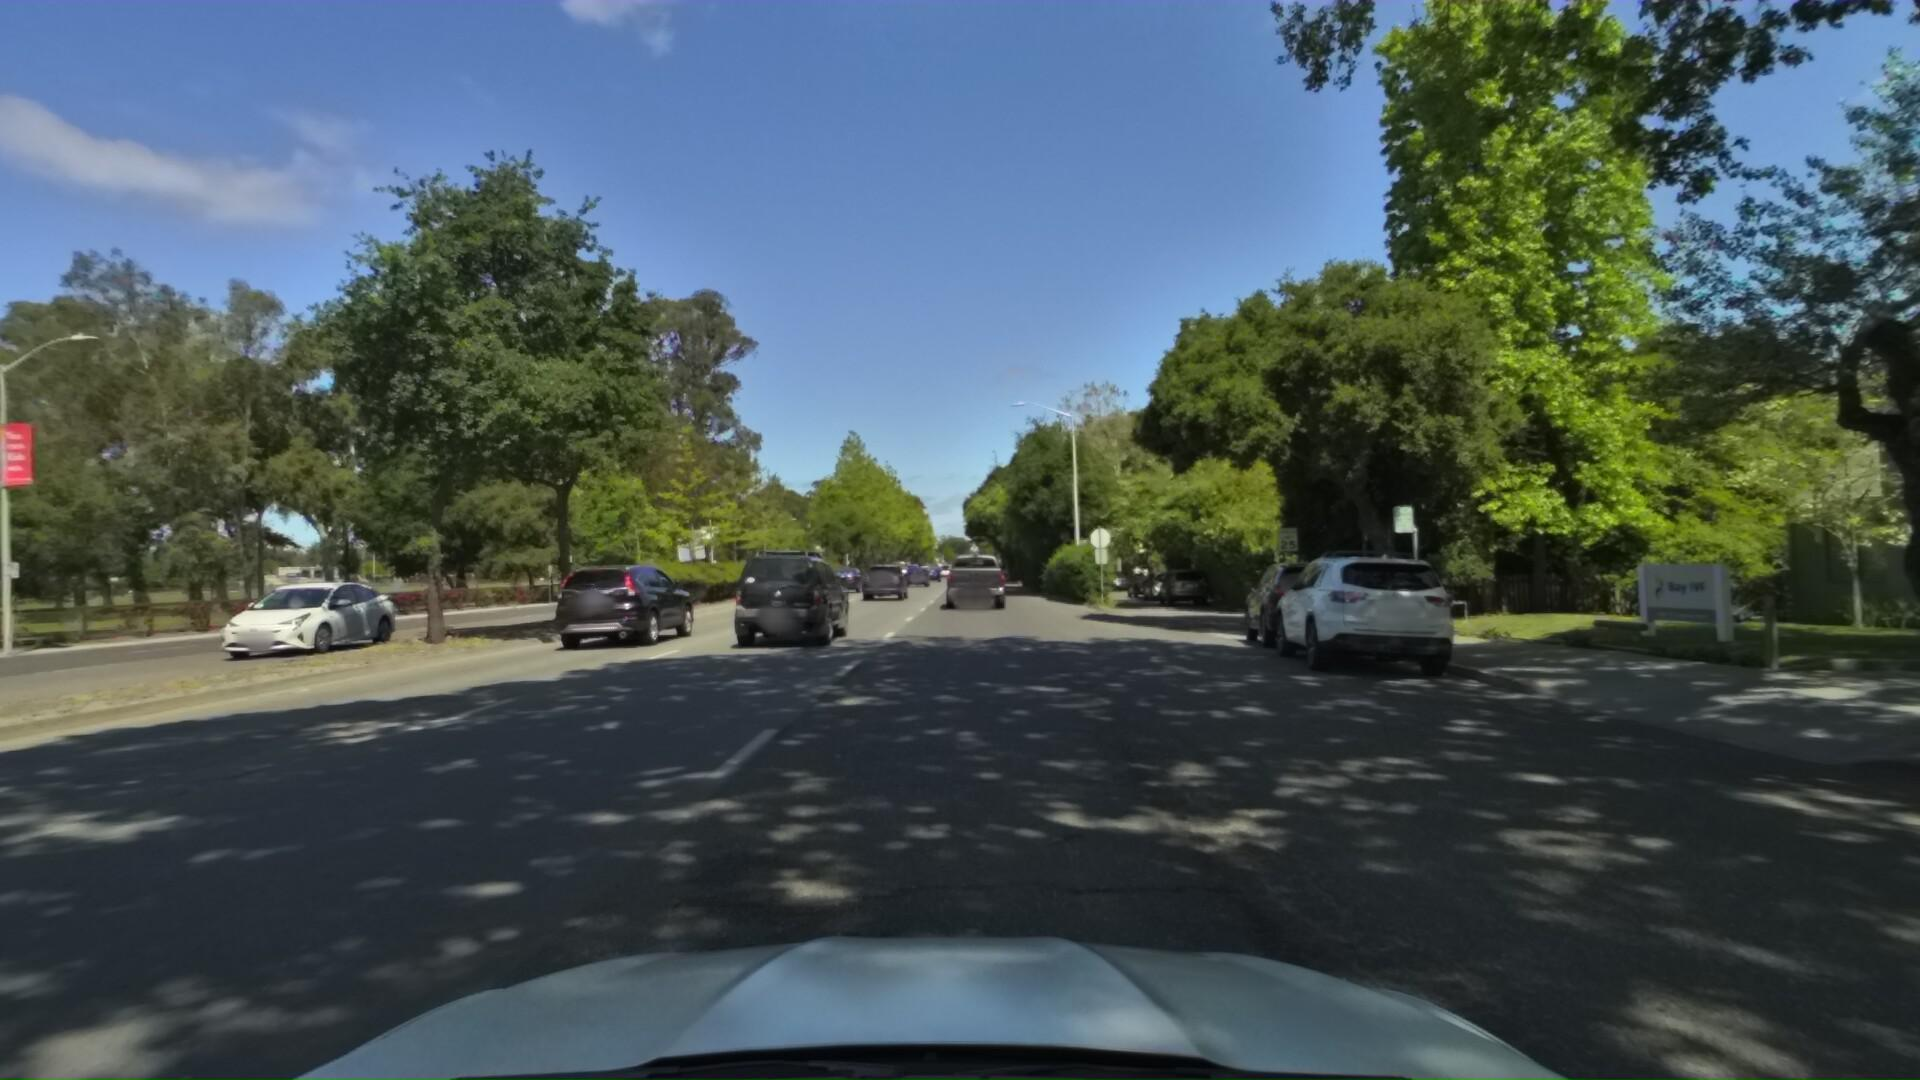car: (1269, 535, 1491, 682), (179, 568, 396, 659), (549, 560, 705, 659), (729, 543, 855, 658), (1241, 553, 1379, 650), (943, 545, 1011, 618), (733, 564, 800, 617), (1155, 559, 1213, 604), (858, 559, 909, 603), (1125, 568, 1175, 603), (1139, 566, 1185, 597), (827, 566, 869, 596), (1095, 568, 1131, 601), (902, 566, 932, 591)
